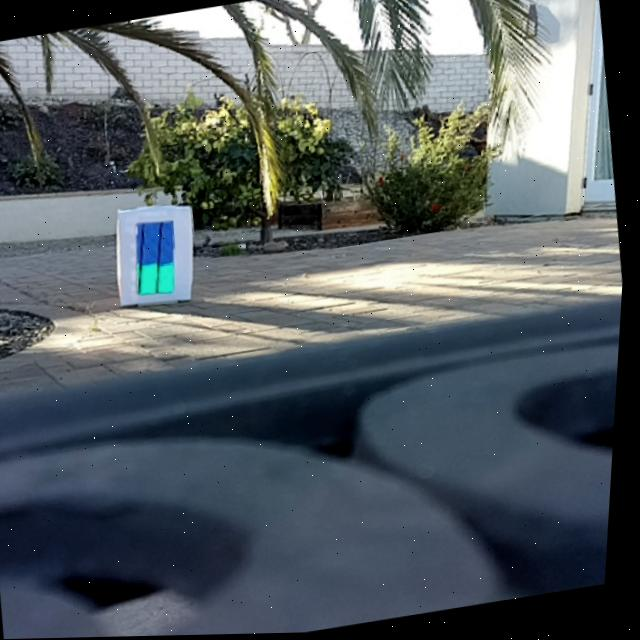led: (134, 219, 186, 297)
